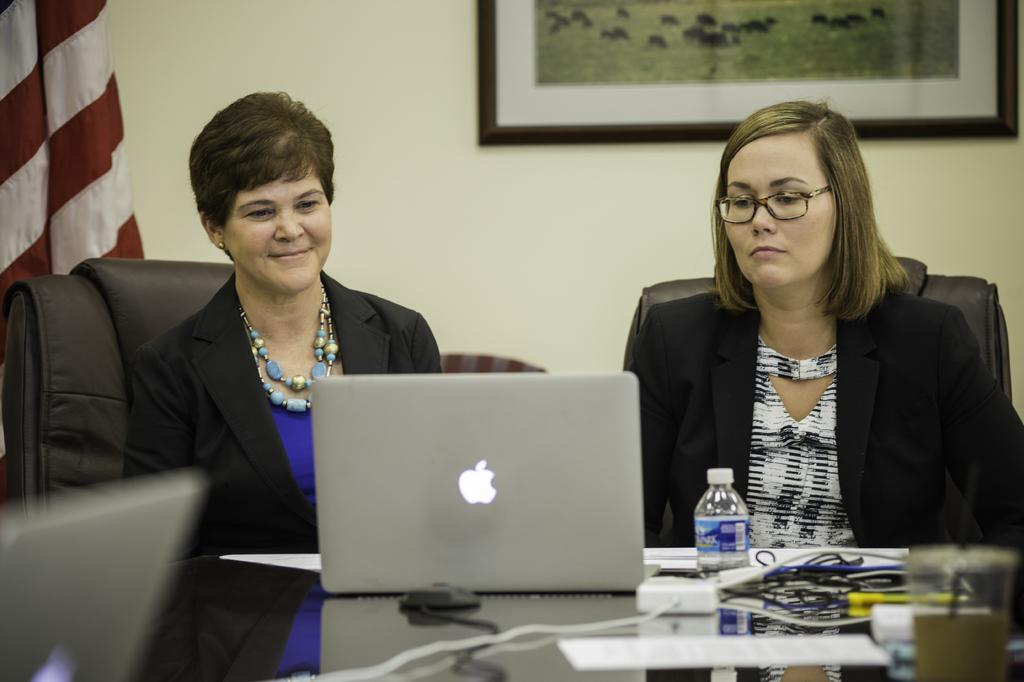Laptop: (310, 372, 664, 596), (0, 467, 204, 681)
